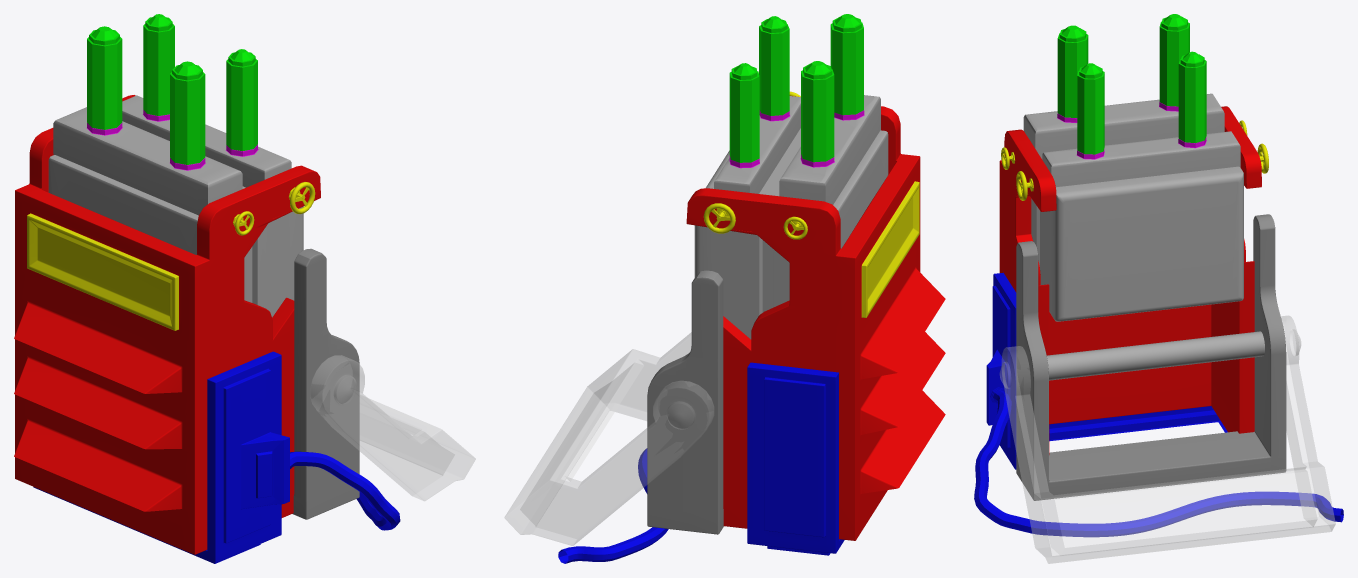
The model's file is moduleBNewGen.fbx.
The picture shows the model from 3 angles, left to right: view 1: azimuth 30°, elevation 25°; view 2: azimuth 150°, elevation 25°; view 3: azimuth 270°, elevation 25°; orthographic projection. The views are drawn at different scales.
Visible parts, largest first — view 1: polySurface699, polySurface700, polySurface709, polySurface675, polySurface673, polySurface676, polySurface708, polySurface704; view 2: polySurface699, polySurface676, polySurface709, polySurface700, polySurface675, polySurface673, polySurface708, polySurface704; view 3: polySurface700, polySurface676, polySurface699, polySurface675, polySurface709, polySurface673, polySurface674, polySurface708, polySurface704.
Boxes of the visible parts, left/top/right/bottom form: polySurface699: left=14, top=95, right=320, bottom=554; polySurface700: left=48, top=95, right=303, bottom=317; polySurface709: left=33, top=351, right=400, bottom=563; polySurface675: left=292, top=248, right=359, bottom=519; polySurface673: left=87, top=14, right=257, bottom=164; polySurface676: left=310, top=355, right=475, bottom=500; polySurface708: left=27, top=182, right=315, bottom=330; polySurface704: left=87, top=110, right=258, bottom=170; polySurface699: left=686, top=96, right=945, bottom=540; polySurface676: left=504, top=332, right=713, bottom=545; polySurface709: left=558, top=362, right=844, bottom=563; polySurface700: left=694, top=95, right=888, bottom=339; polySurface675: left=647, top=270, right=723, bottom=534; polySurface673: left=729, top=14, right=863, bottom=162; polySurface708: left=703, top=91, right=919, bottom=317; polySurface704: left=729, top=110, right=864, bottom=168; polySurface700: left=1023, top=93, right=1243, bottom=321; polySurface676: left=1000, top=315, right=1335, bottom=563; polySurface699: left=999, top=106, right=1261, bottom=454; polySurface675: left=1016, top=214, right=1286, bottom=500; polySurface709: left=974, top=272, right=1343, bottom=537; polySurface673: left=1057, top=14, right=1206, bottom=154; polySurface674: left=1047, top=331, right=1264, bottom=380; polySurface708: left=1001, top=120, right=1268, bottom=200; polySurface704: left=1057, top=102, right=1206, bottom=159.
Size of the model in its own units: 457 by 543 by 419.
